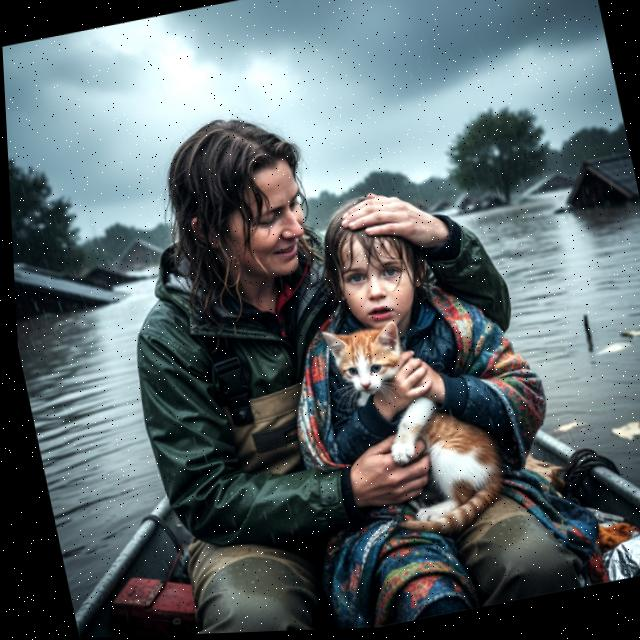cat: (311, 296, 536, 560)
civilian: (72, 63, 575, 637), (245, 145, 581, 631)
